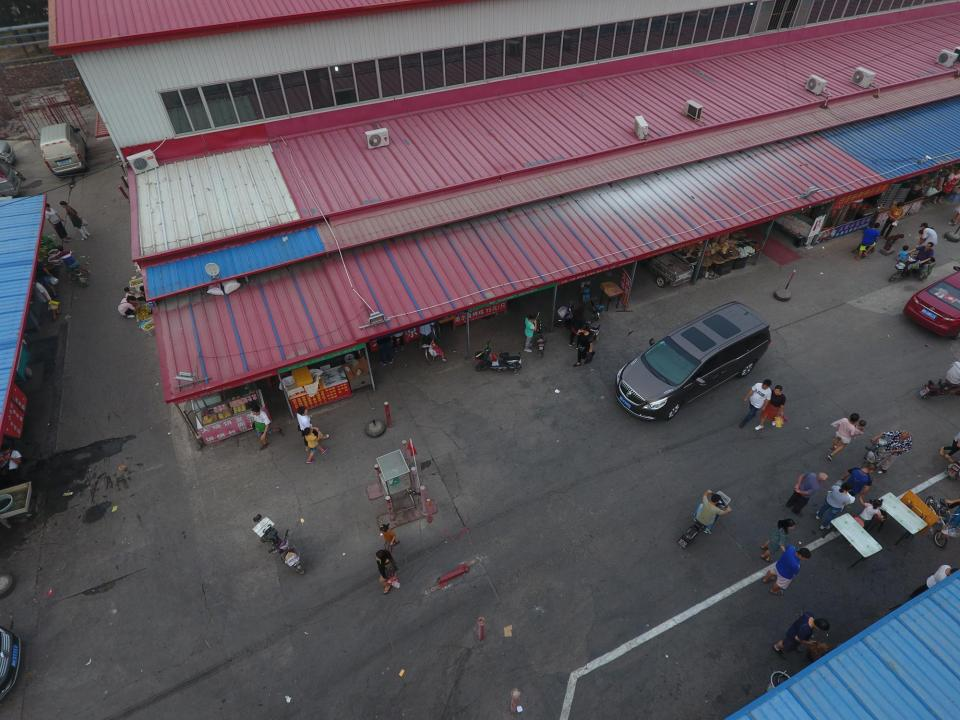car: (612, 301, 771, 424), (902, 266, 960, 341)
van: (35, 122, 89, 178)
